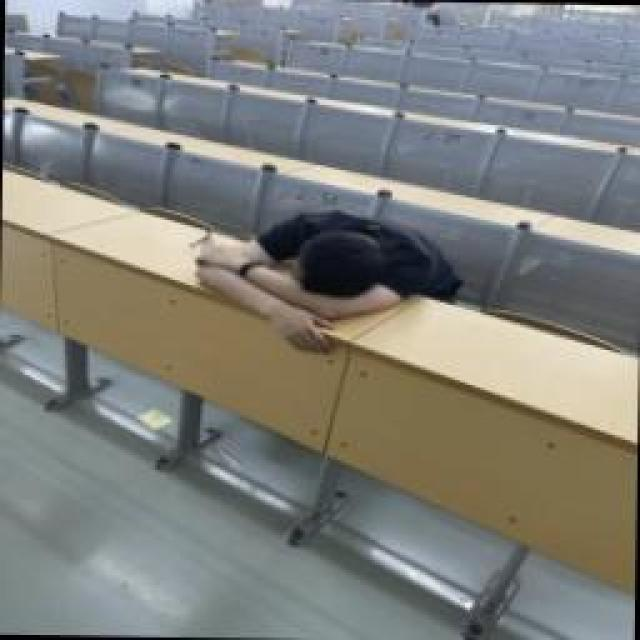sleep: (198, 210, 460, 355)
